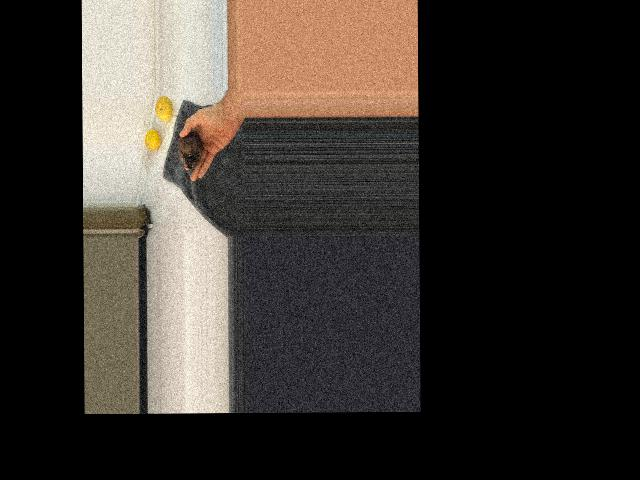beet: (174, 114, 203, 168)
